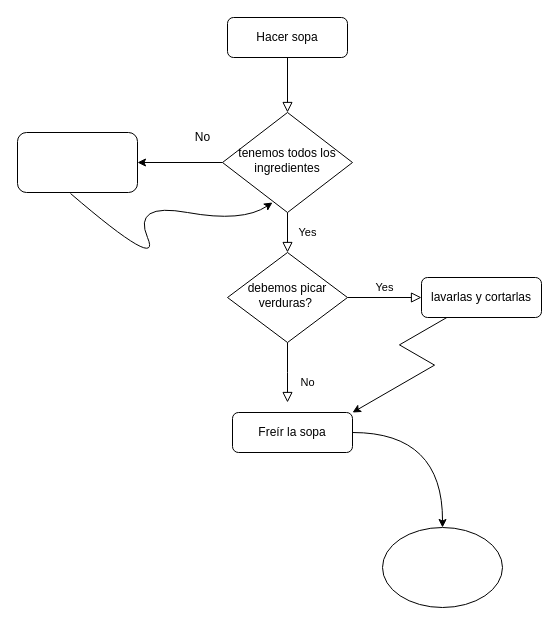
Image size: 559x625. Some labels were removed from this diagram. The shapes that lost their labels are listed below. From the top down, each one's centre as x and y in pixels, then its label:
At (77,162): "compramos los ingredientes".
At (442,567): "cocinamos la sopa y servimos".
